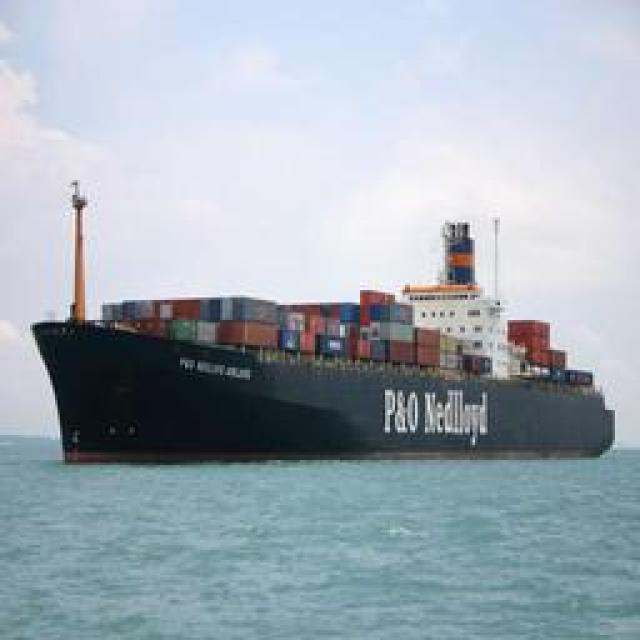CIV_Ship: (26, 219, 636, 459)
